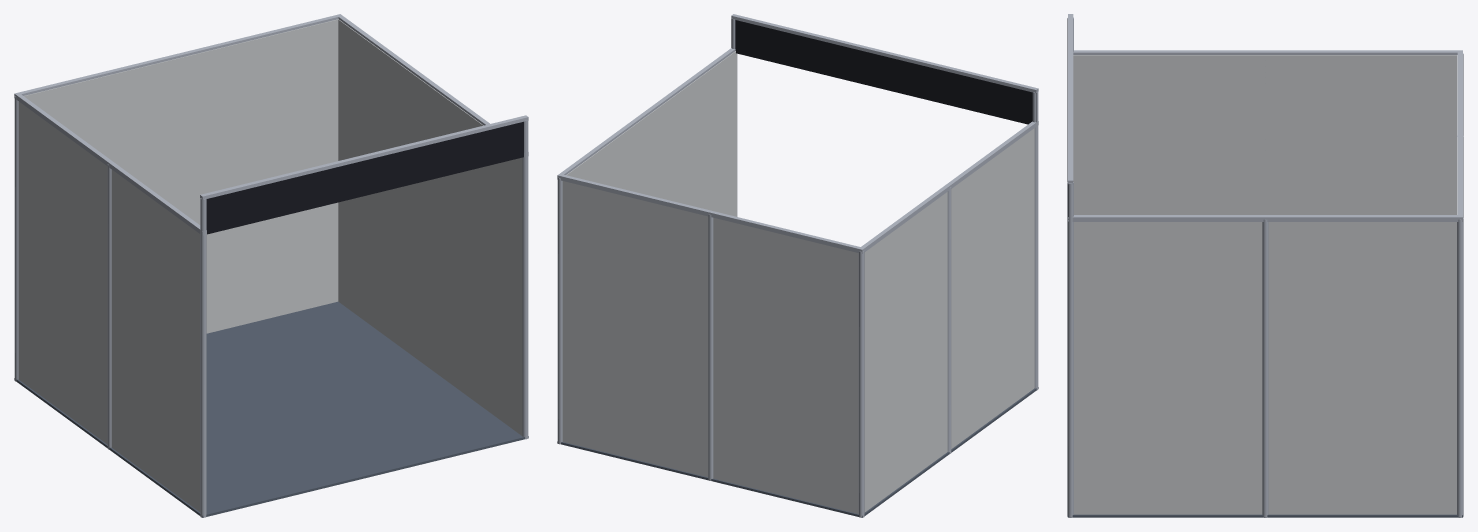
The model's file is evt-001.glb.
3 renders of one model, left to right at view 1: azimuth 30°, elevation 25°; view 2: azimuth 150°, elevation 25°; view 3: azimuth 270°, elevation 25°, orthographic. The views are drawn at different scales.
Parts seen in each view (by area): view 1: white, office_carpet, steel, sign_panel; view 2: white, steel, sign_panel, office_carpet; view 3: white, steel, office_carpet.
Boxes of the visible parts, x1,y1,x2,y2 form: white: (18, 19, 522, 511); office_carpet: (14, 301, 528, 517); steel: (14, 14, 528, 517); sign_panel: (206, 121, 523, 234); white: (562, 51, 1034, 513); steel: (557, 14, 1038, 517); sign_panel: (731, 19, 1036, 124); office_carpet: (557, 387, 1038, 517); white: (1073, 55, 1457, 514); steel: (1067, 14, 1463, 517); office_carpet: (1068, 514, 1462, 517).
Size of the model in its own units: 3.01 by 2.83 by 3.01.
